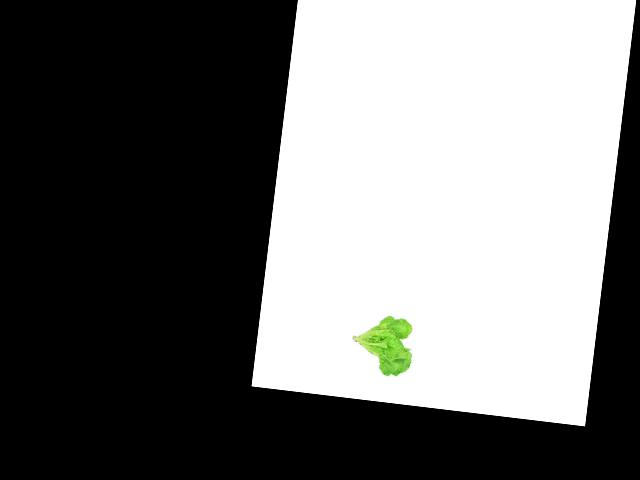lettuce: (346, 309, 420, 382)
